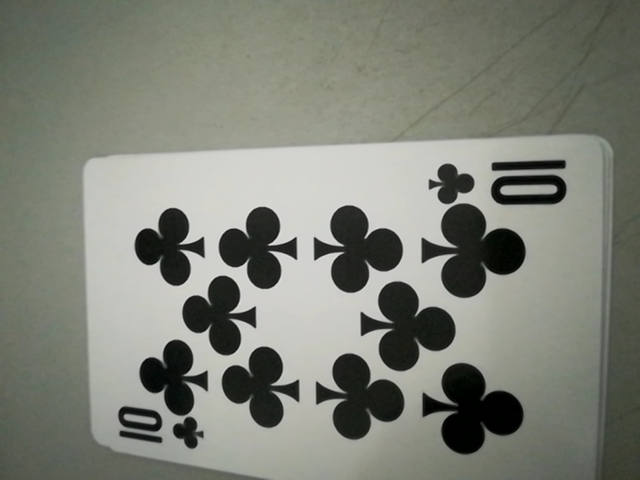mh 10: (426, 151, 572, 209), (108, 404, 205, 459)
